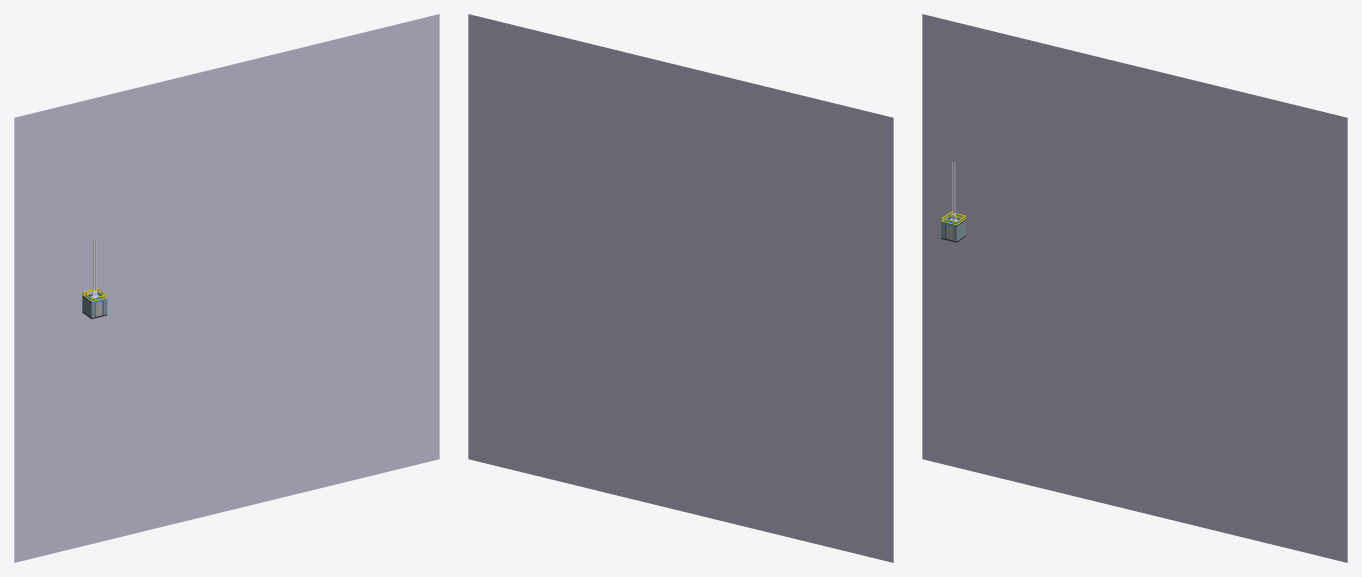
Rendered from models.glb.
The picture shows the model from 3 angles, left to right: view 1: azimuth 30°, elevation 25°; view 2: azimuth 150°, elevation 25°; view 3: azimuth 330°, elevation 25°; orthographic projection.
Parts seen in each view (by area): view 1: Plane, Cube; view 2: Plane; view 3: Plane, Cube.
Part boxes in pixels (x1,y1,x2,y2): Plane: (14,14,439,562); Cube: (82,238,107,319); Plane: (468,14,893,562); Plane: (922,14,1347,562); Cube: (941,162,965,242).
Bounding box in the file's own units: 54.18 × 54.18 × 6.42.
Materials: 2 (1 with a texture image).
